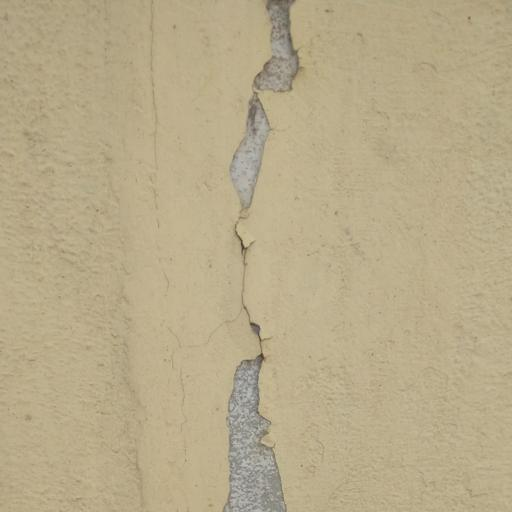peeling: (208, 0, 317, 512)
